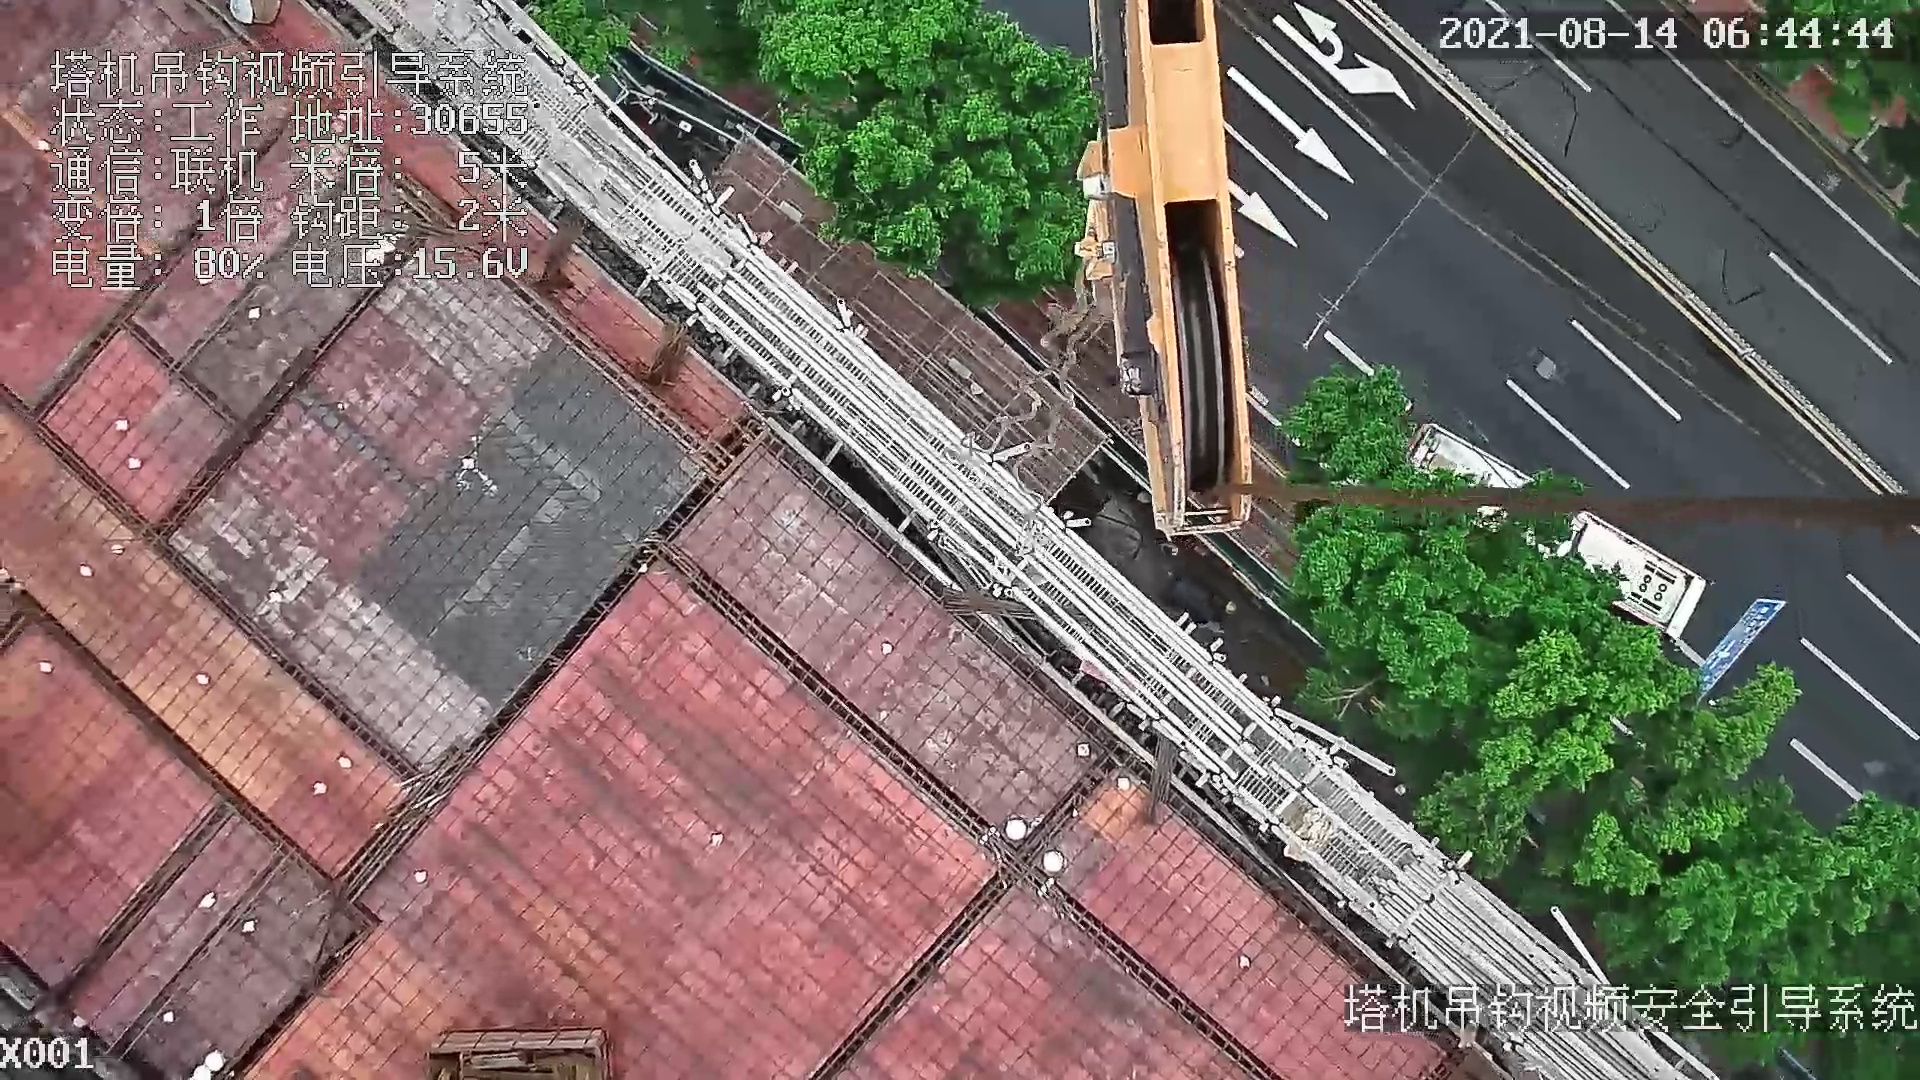hook: (1056, 5, 1255, 541)
